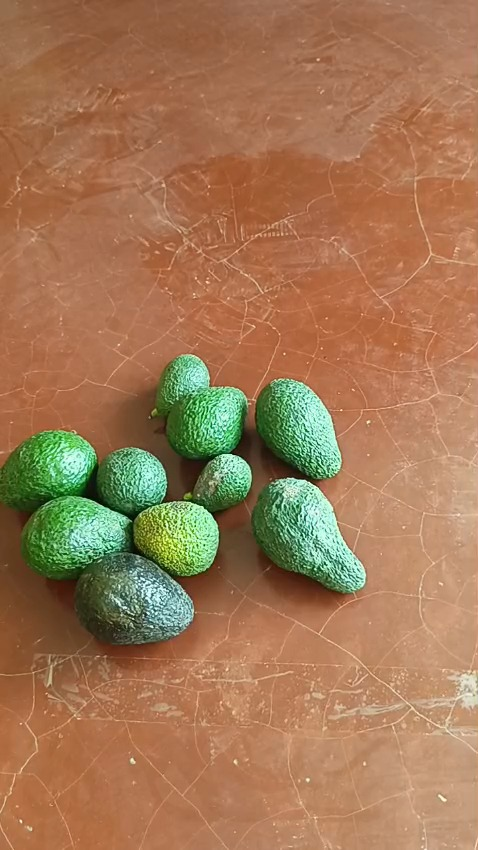Primera: (251, 477, 364, 591), (71, 552, 195, 643), (21, 496, 134, 580), (255, 379, 341, 479), (0, 430, 97, 511), (165, 386, 248, 459)
Segunda: (132, 500, 221, 576), (97, 445, 173, 516)
Tercera: (187, 453, 252, 514), (156, 352, 210, 421)
